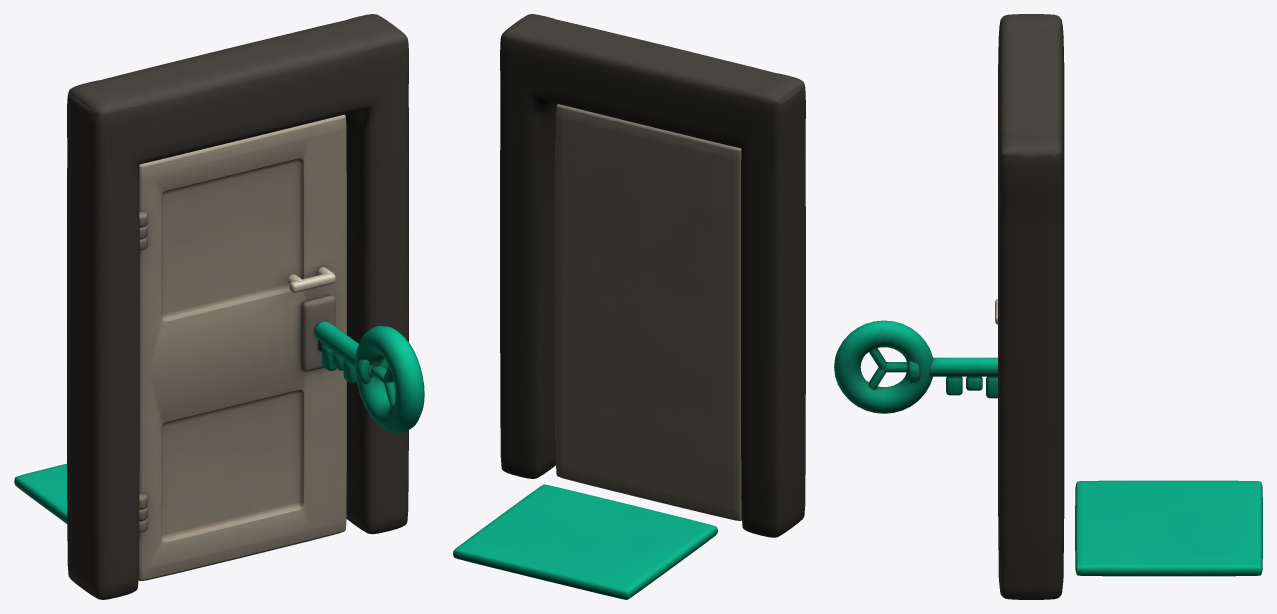
The model's file is keys.glb.
3 views of the same model, side by side, from view 1: azimuth 30°, elevation 25°; view 2: azimuth 150°, elevation 25°; view 3: azimuth 270°, elevation 25° (orthographic). The views are drawn at different scales.
Parts seen in each view (by area): view 1: Door_mesh, Frame_mesh, Key_mesh, Inside_mesh; view 2: Frame_mesh, Door_mesh, Inside_mesh; view 3: Frame_mesh, Inside_mesh, Key_mesh.
Boxes of the visible parts, left/top/right/bottom form: Door_mesh: left=138, top=114, right=346, bottom=581; Frame_mesh: left=67, top=14, right=408, bottom=599; Key_mesh: left=314, top=321, right=424, bottom=433; Inside_mesh: left=14, top=463, right=67, bottom=523; Frame_mesh: left=500, top=14, right=805, bottom=537; Door_mesh: left=555, top=104, right=741, bottom=520; Inside_mesh: left=453, top=484, right=717, bottom=599; Frame_mesh: left=998, top=14, right=1064, bottom=599; Inside_mesh: left=1075, top=480, right=1262, bottom=576; Key_mesh: left=834, top=320, right=997, bottom=413.
Bounding box in the file's own units: 1.6 × 2.4 × 2.05.
Materials: 1 (1 with a texture image).
